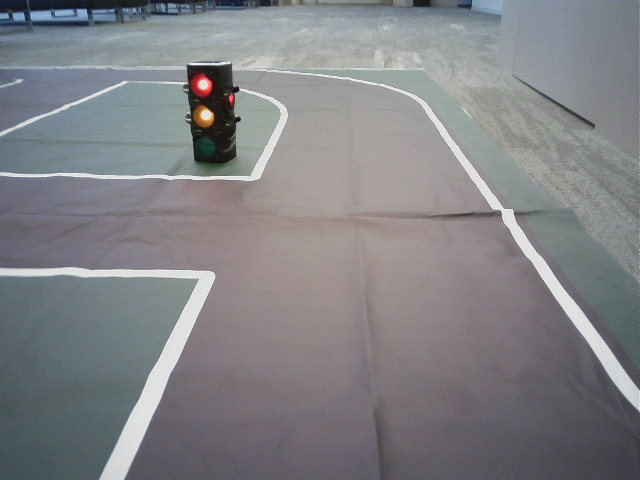red: (189, 68, 218, 161)
